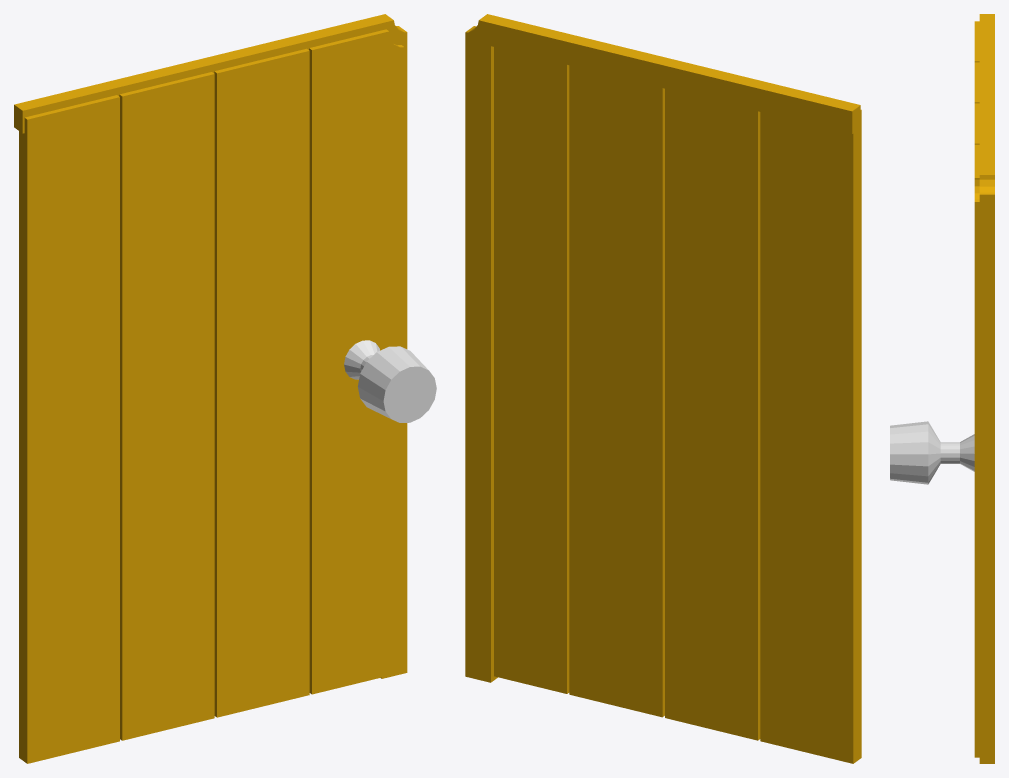
Rendered from door_wooden_destructible_latest.fbx.
3 renders of one model, left to right at view 1: azimuth 30°, elevation 25°; view 2: azimuth 150°, elevation 25°; view 3: azimuth 270°, elevation 25°, orthographic. The views are drawn at different scales.
Parts seen in each view (by area): view 1: Cylinder; view 2: Cylinder; view 3: Cylinder.
Part boxes in pixels (<box>): Cylinder: <box>14,14,436,763</box>; Cylinder: <box>465,14,861,763</box>; Cylinder: <box>890,14,994,763</box>.
Bounding box in the file's own units: 117 × 191 × 31.15.
